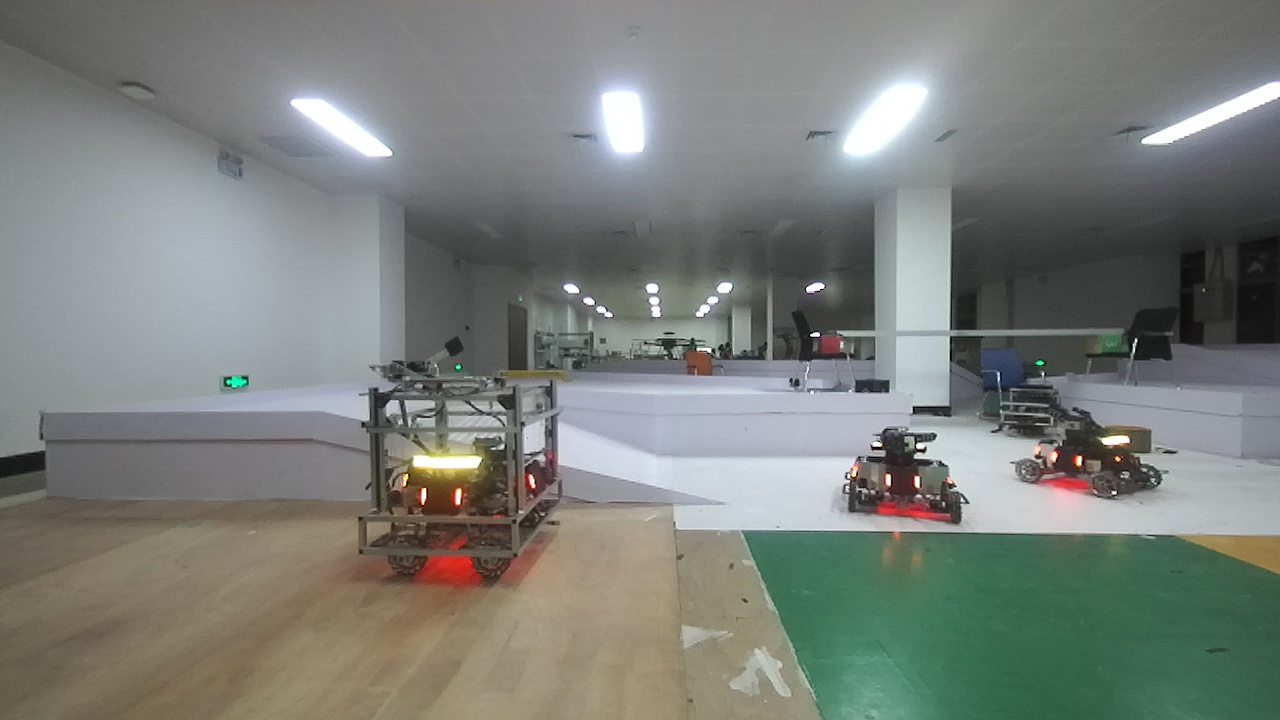car: (346, 369, 580, 593), (838, 422, 981, 545), (1029, 409, 1188, 513)
